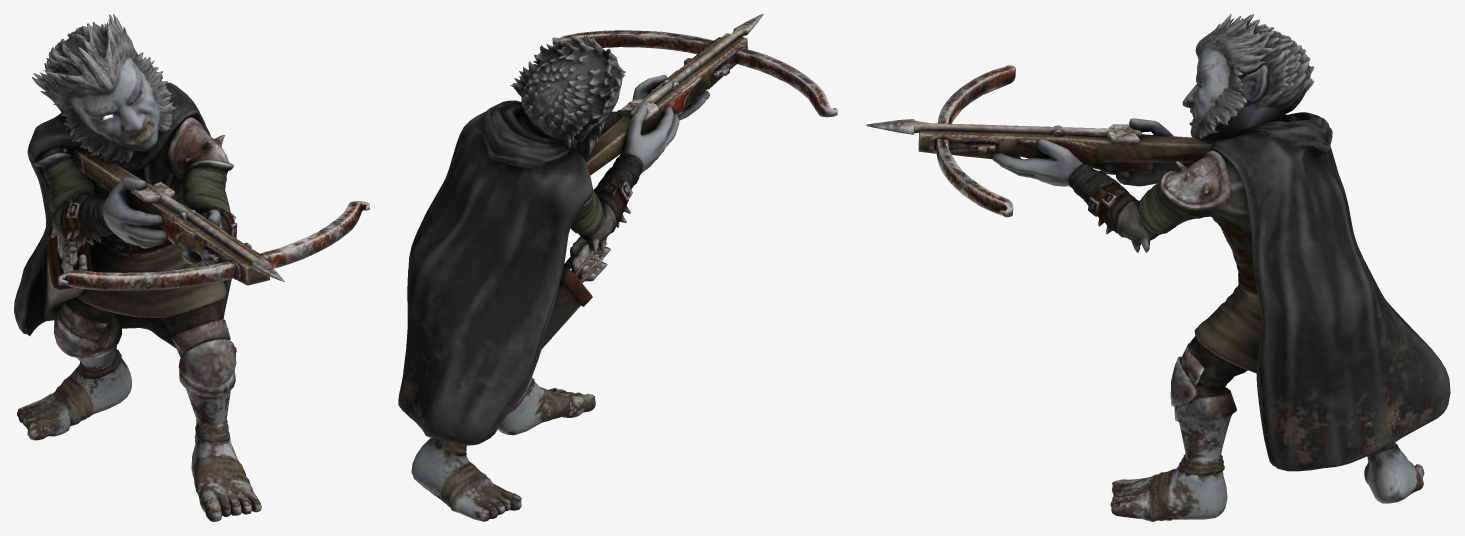
Rendered from MZ4250 - Derro Crossbow Marksman.glb.
The picture shows the model from 3 angles, left to right: view 1: azimuth 30°, elevation 25°; view 2: azimuth 150°, elevation 25°; view 3: azimuth 270°, elevation 25°; orthographic projection. The views are drawn at different scales.
Parts seen in each view (by area): view 1: Quiver.001; view 2: Quiver.001; view 3: Quiver.001.
Part boxes in pixels (bbox=[...]): Quiver.001: bbox=[14, 14, 369, 521]; Quiver.001: bbox=[398, 14, 837, 521]; Quiver.001: bbox=[866, 14, 1450, 521].
Size of the model in its own units: 0.4282 by 0.6145 by 0.7082.
1 material, 1 textured.
